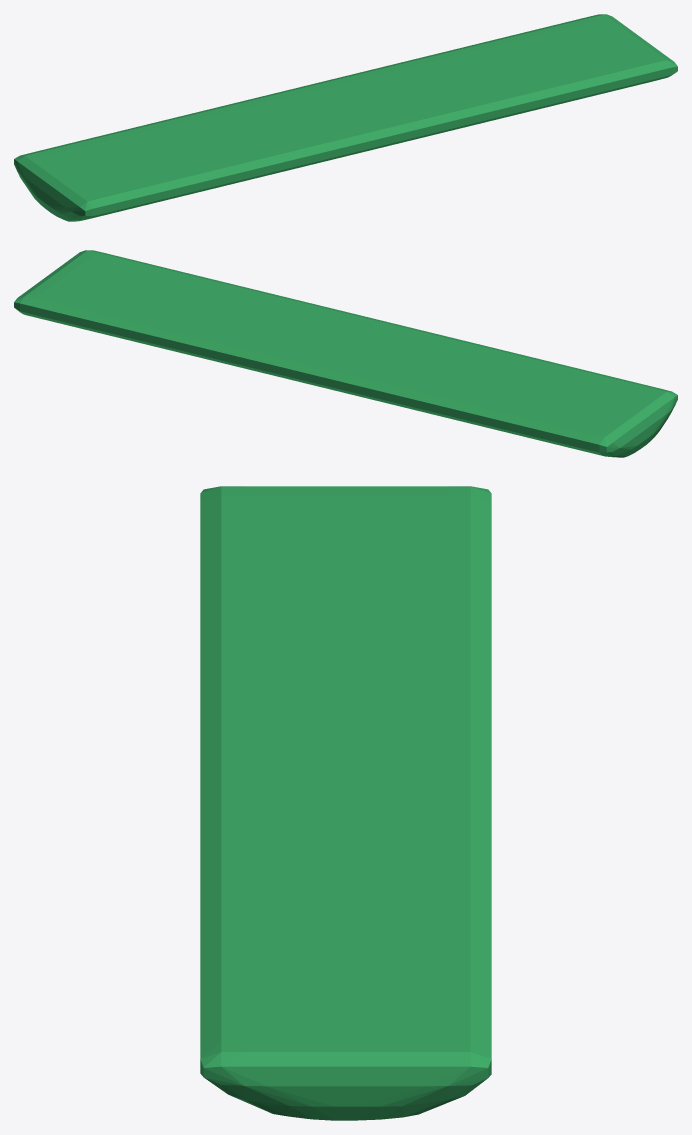
File: right-tarsus-0_part_10.obj
The picture shows the model from 3 angles, top to bottom: view 1: azimuth 30°, elevation 25°; view 2: azimuth 150°, elevation 25°; view 3: azimuth 270°, elevation 25°; orthographic projection. The views are drawn at different scales.
Bounding box in the file's own units: 0.1145 × 0.00626 × 0.0241.
